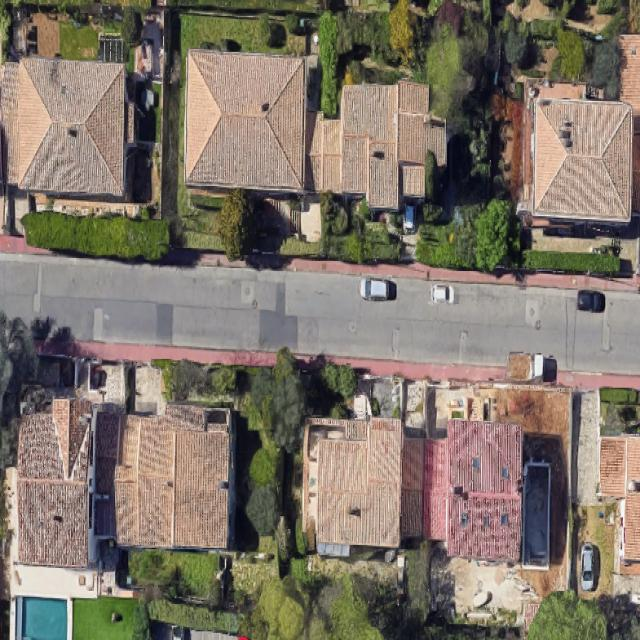maison: (179, 49, 313, 194), (14, 397, 118, 569), (306, 82, 446, 209), (112, 404, 234, 548), (0, 58, 123, 193), (316, 417, 423, 547), (423, 419, 520, 561), (534, 99, 629, 221), (597, 435, 639, 574), (620, 35, 639, 210)
